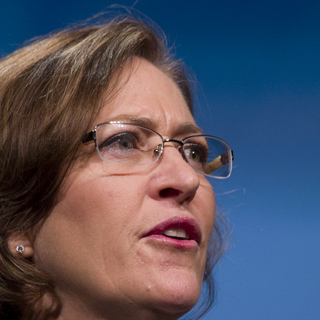eye: (99, 128, 149, 161), (178, 140, 209, 169)
